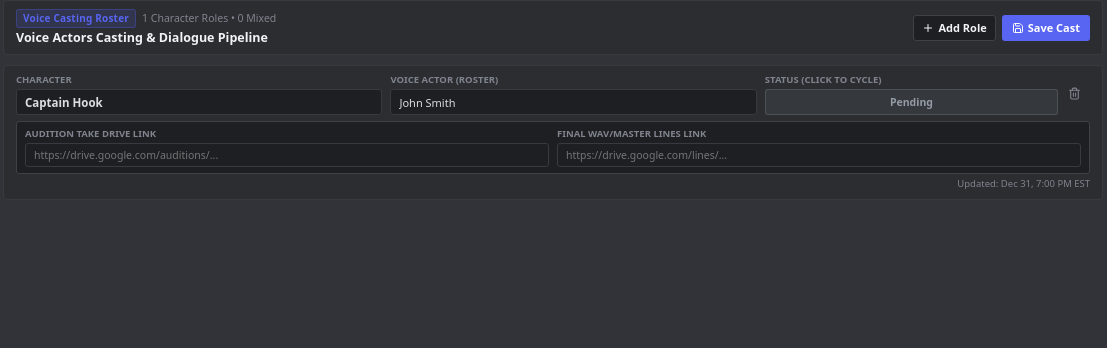
Test: <VoiceCastingTab /> › adds a new voice role when Add Role is clicked
This screenshot has width=1107, height=348.
Click the button "Add Role". click: (955, 28)
box: [914,15,996,41]
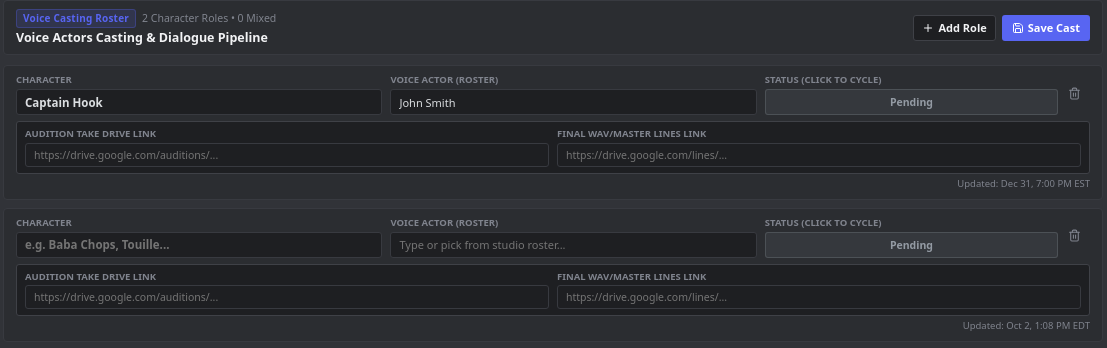
expect the number of fields with placeholder "e.g. Baba Chops, Touille..." is 2: met, box [16,89,382,115]; [16,232,382,258]
